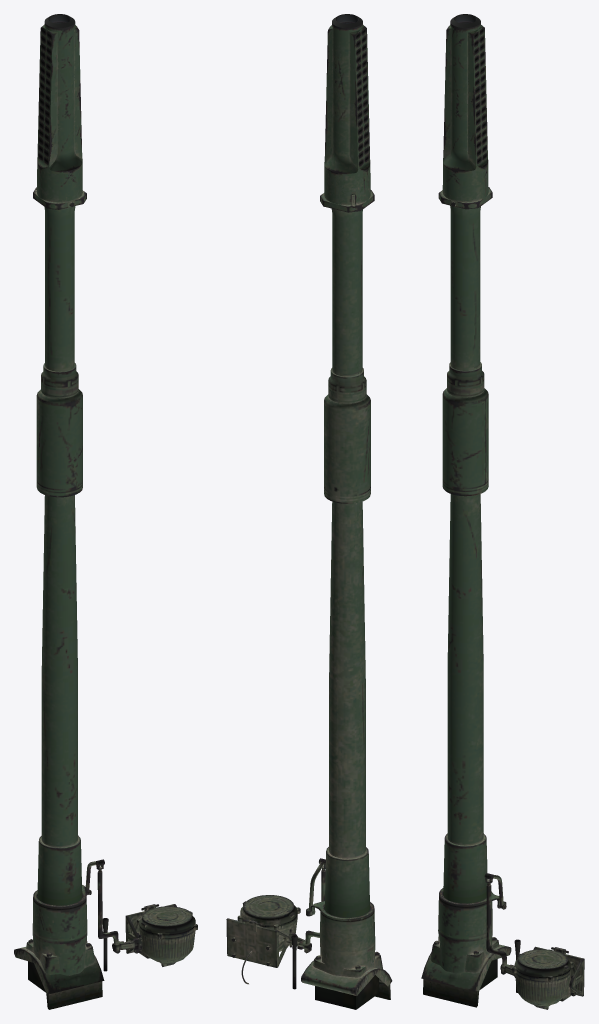
The model's file is Gun_02.glb.
3 renders of one model, left to right at view 1: azimuth 30°, elevation 25°; view 2: azimuth 150°, elevation 25°; view 3: azimuth 330°, elevation 25°, orthographic.
Visible parts, largest first — view 1: set_0_group_0; view 2: set_0_group_0; view 3: set_0_group_0.
Part boxes in pixels (<box>): set_0_group_0: <box>14,14,197,1009</box>; set_0_group_0: <box>226,14,392,1009</box>; set_0_group_0: <box>421,14,584,1009</box>.
Size of the model in its own units: 1.02 by 6.61 by 0.5955.
1 material, 1 textured.
